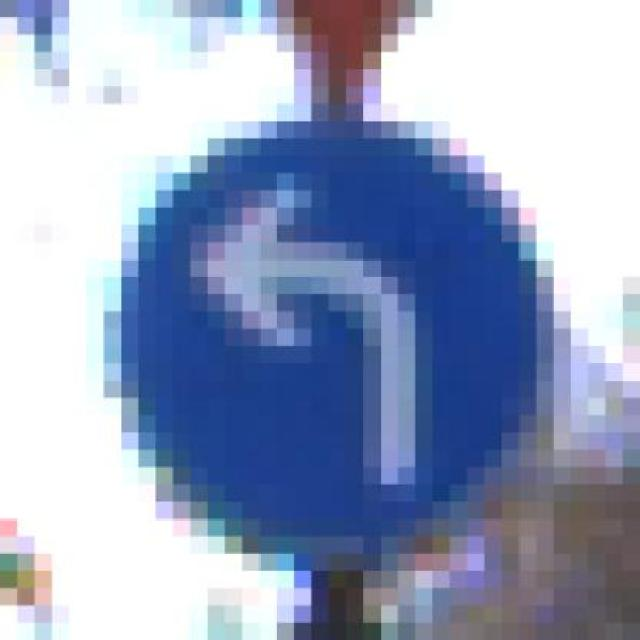Turn left ahead: (69, 103, 571, 571)
